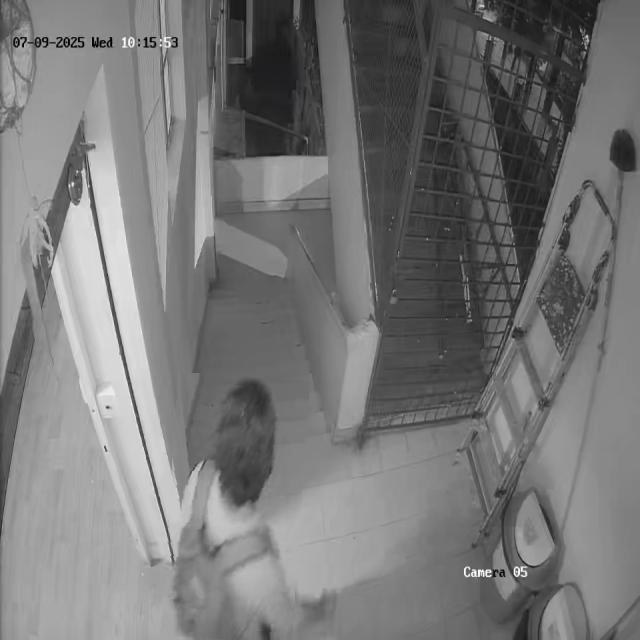person: (164, 374, 305, 640)
